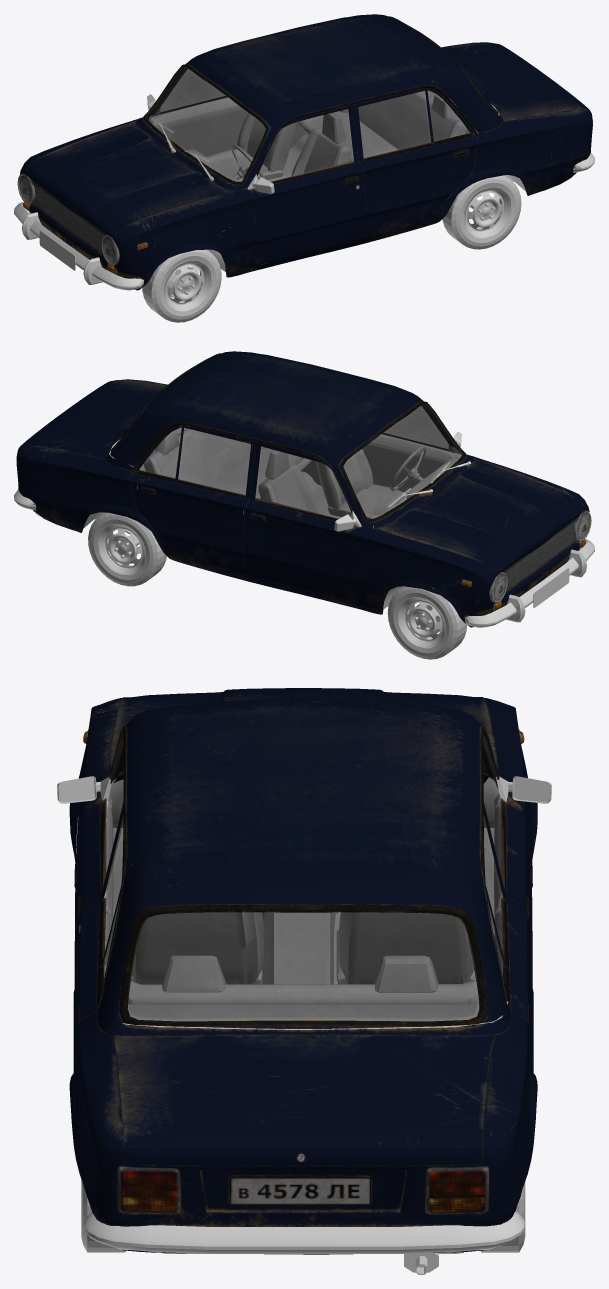
The model's file is car1.fbx.
The picture shows the model from 3 angles, top to bottom: view 1: azimuth 30°, elevation 25°; view 2: azimuth 150°, elevation 25°; view 3: azimuth 270°, elevation 25°; orthographic projection. The views are drawn at different scales.
Parts seen in each view (by area): view 1: car1_LOD0; view 2: car1_LOD0; view 3: car1_LOD0.
Part boxes in pixels (x1,y1,x2,y2): car1_LOD0: (14,14,594,322); car1_LOD0: (14,351,594,659); car1_LOD0: (57,688,551,1274).
Size of what is drawn, in the model's own units: 413 by 143 by 177.
